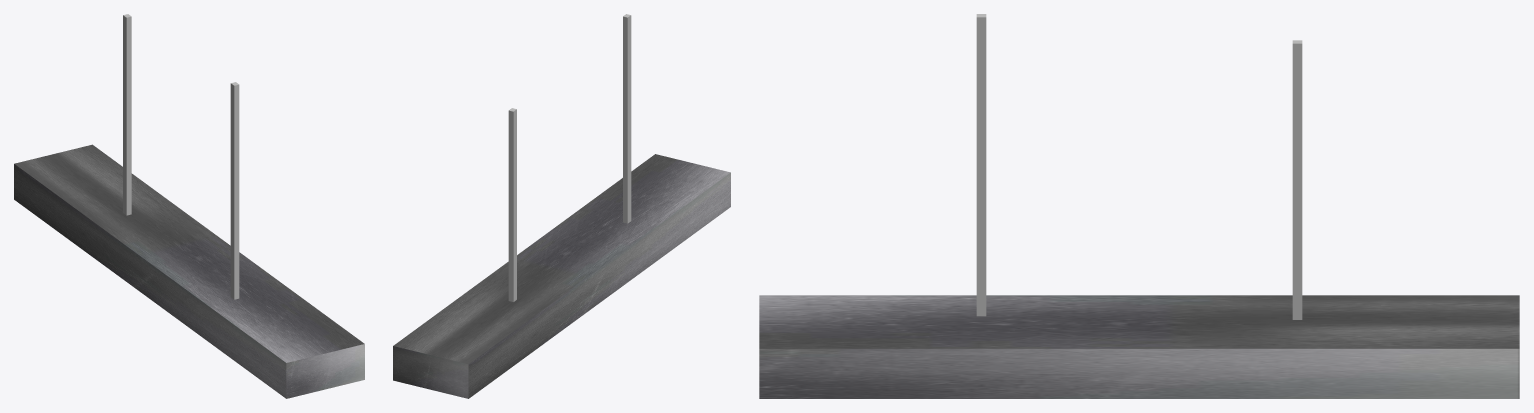
File: Lamp.obj
3 views of the same model, side by side, from view 1: azimuth 30°, elevation 25°; view 2: azimuth 150°, elevation 25°; view 3: azimuth 270°, elevation 25° (orthographic). The views are drawn at different scales.
Parts seen in each view (by area): view 1: Cube.001; view 2: Cube.001; view 3: Cube.001.
Boxes of the visible parts, x1=… form: Cube.001: x1=14, y1=14, x2=364, y2=398; Cube.001: x1=393, y1=14, x2=730, y2=398; Cube.001: x1=759, y1=14, x2=1519, y2=398.
Bounding box in the file's own units: 2 × 6.09 × 12.03.
